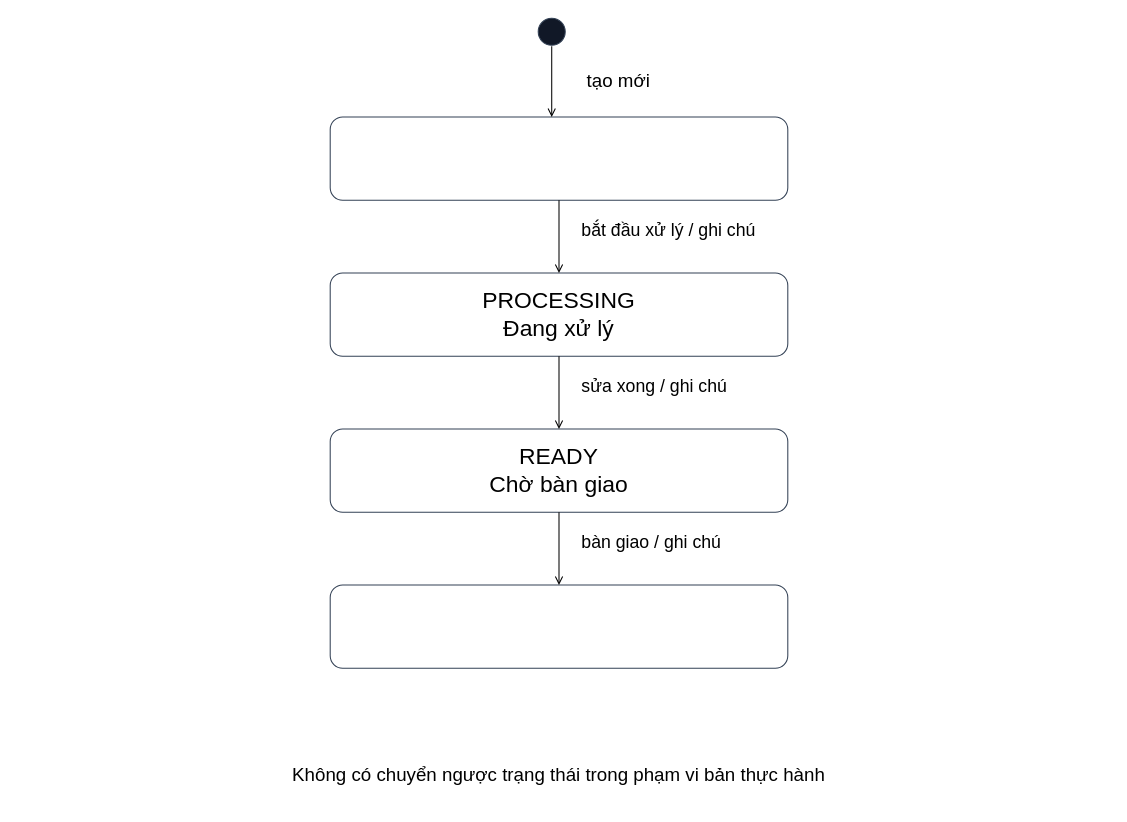
Some shapes in this 1127 by 822 pixel diagram are drawn without their labels. The shapes that lost their labels are listed below. From the top down, each one's centre as x and y in pixels, then its label:
the point at 558,158: RECEIVED Đã tiếp nhận
the point at 558,626: CLOSED Đã bàn giao
